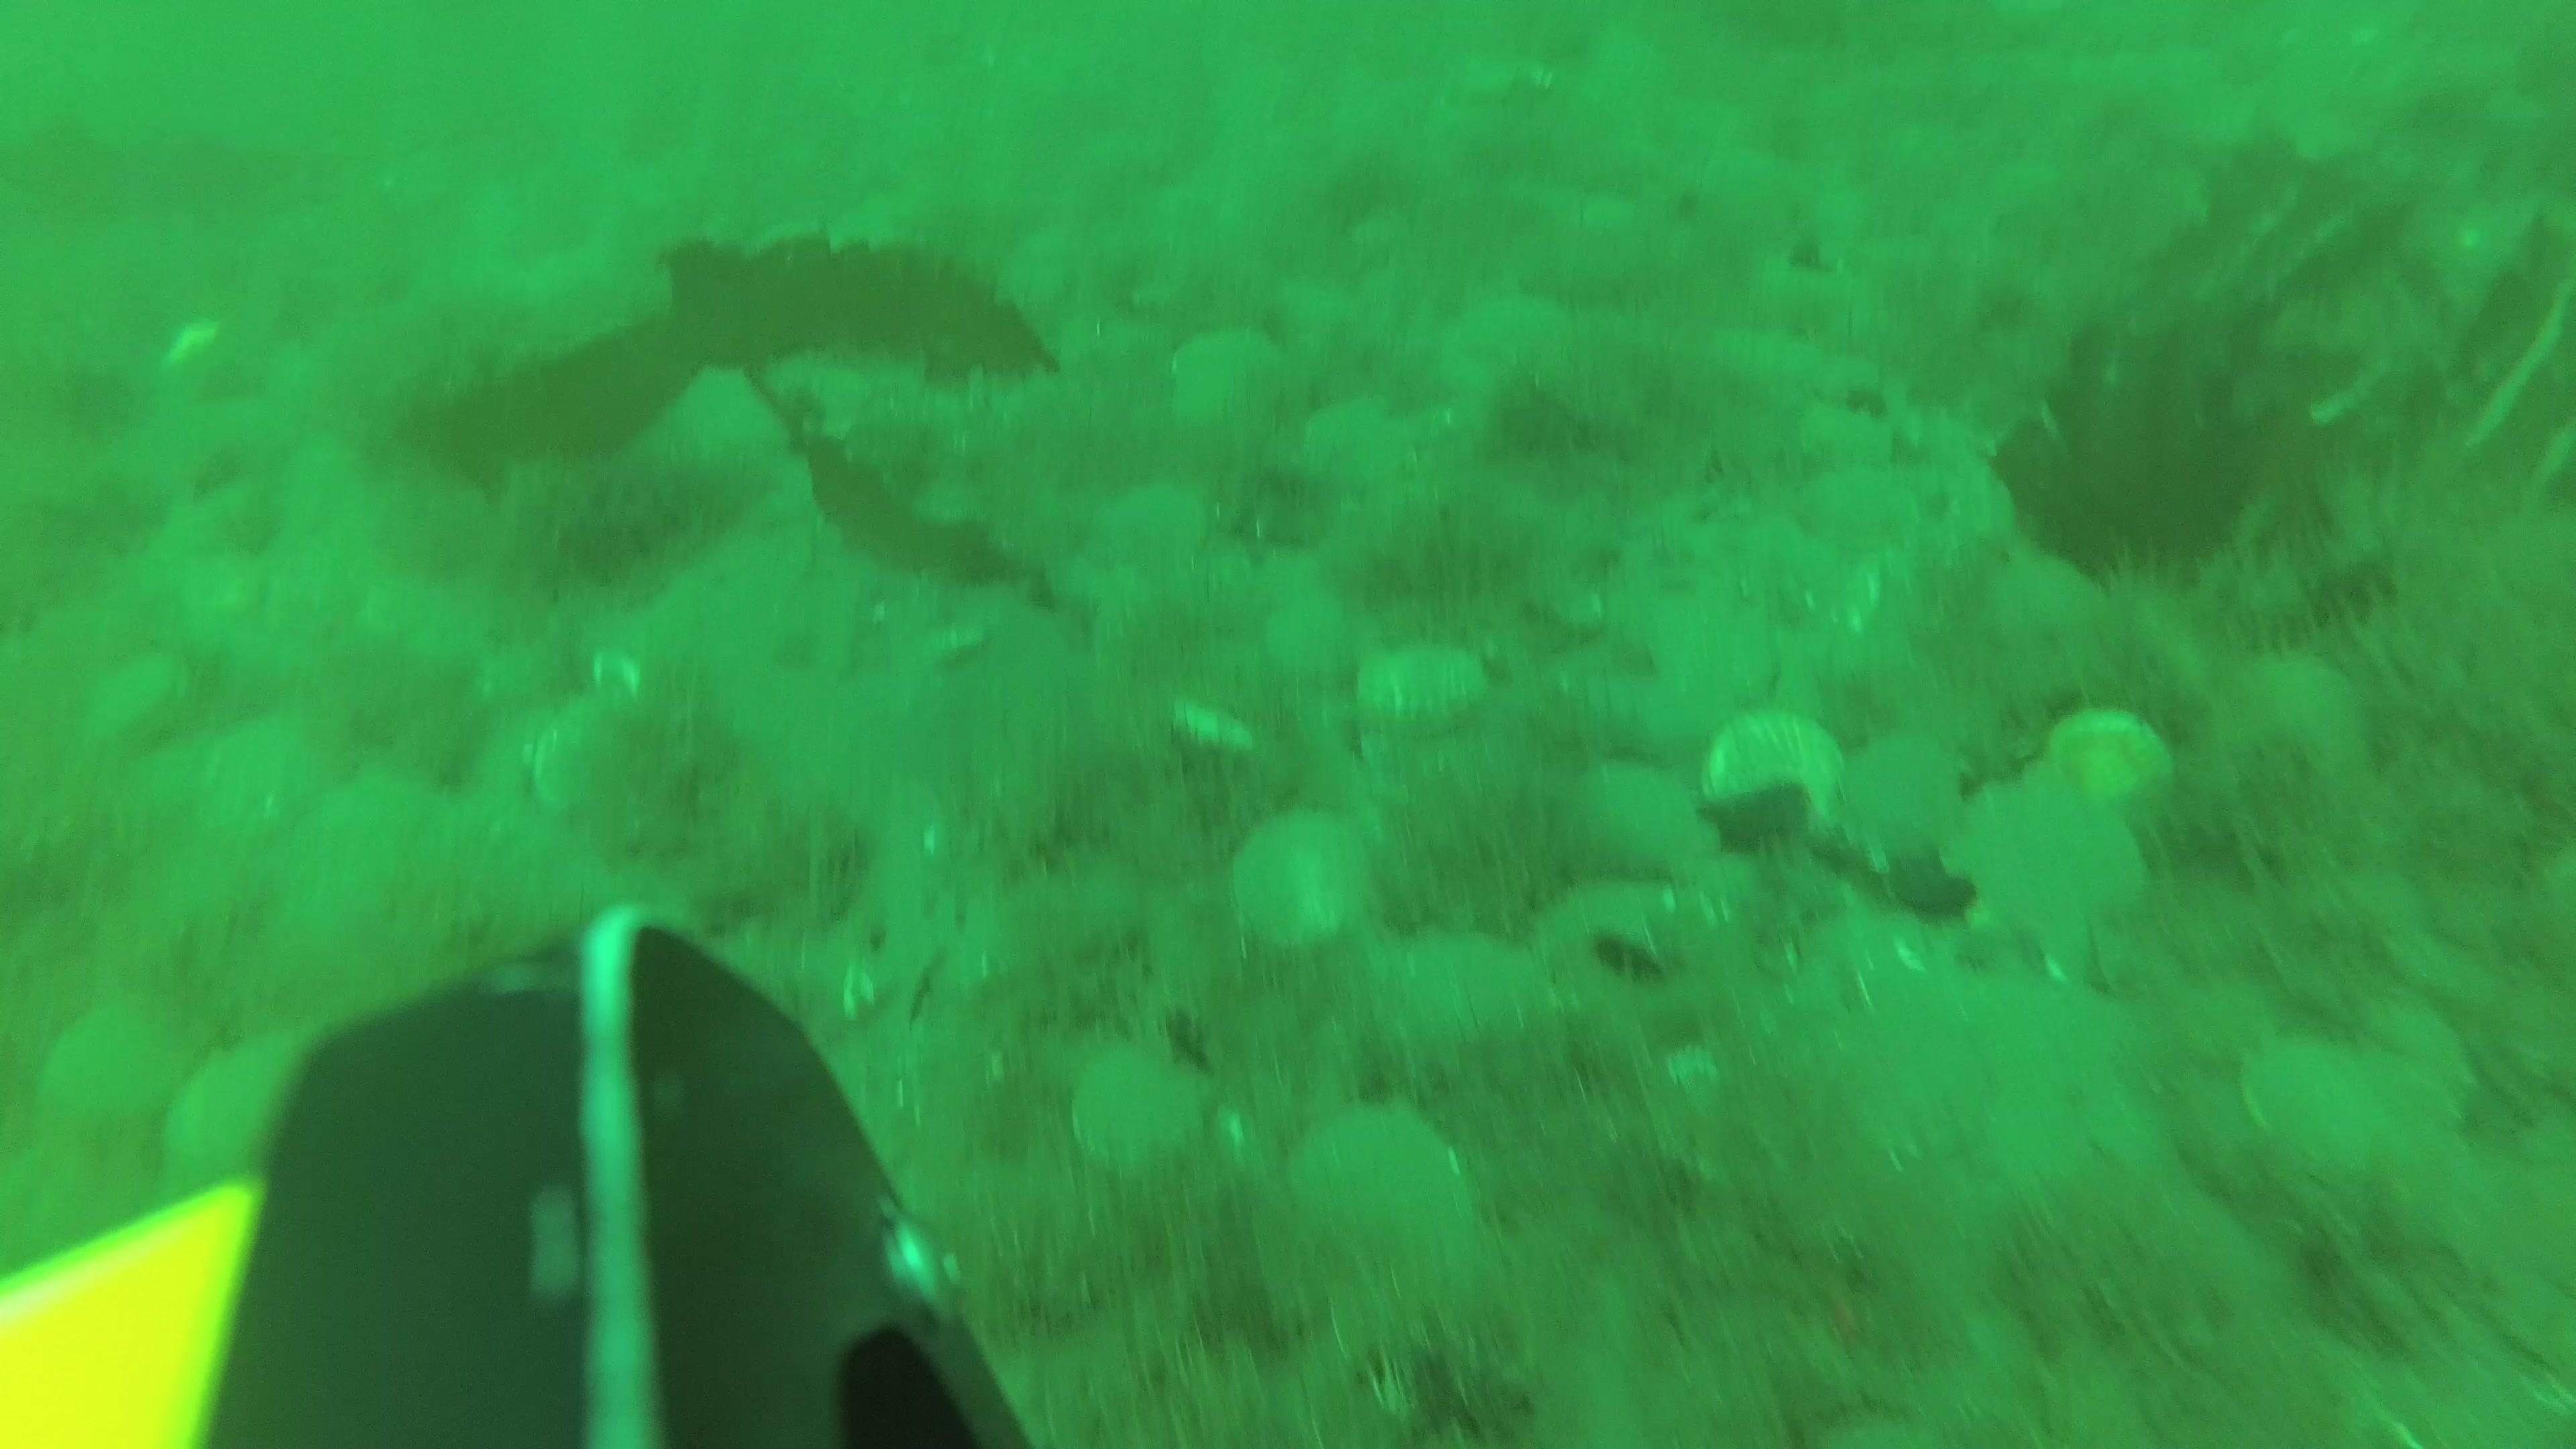scallop: (1964, 789, 2160, 962), (2249, 1026, 2434, 1194), (1299, 1104, 1481, 1270), (1537, 865, 1716, 1019), (1230, 809, 1382, 954), (1380, 948, 1555, 1063), (2224, 653, 2373, 787), (58, 1000, 209, 1122), (1704, 717, 1845, 844), (1838, 747, 1974, 878), (1063, 1053, 1207, 1177), (177, 1047, 317, 1166), (1585, 755, 1725, 867), (531, 694, 651, 816), (1987, 552, 2114, 662), (1355, 642, 1495, 736), (2049, 715, 2176, 810), (1265, 594, 1391, 690), (1656, 619, 1771, 722), (1460, 297, 1576, 395), (1097, 481, 1212, 573), (1794, 467, 1913, 556), (1177, 334, 1284, 421), (76, 660, 186, 743), (1810, 396, 1895, 478)
